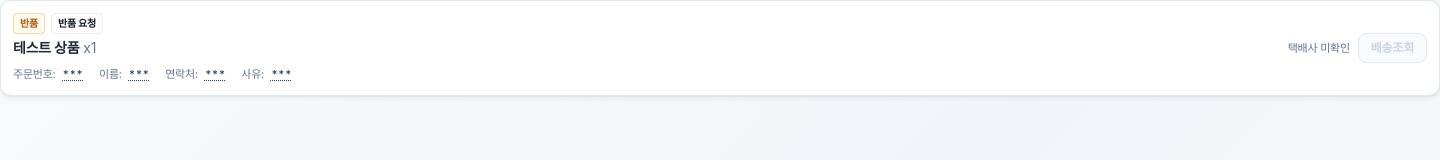
it: ClaimItemCard 개인정보 가림 › 누르면 연락처는 뒷 4자리, 이름·주문번호·사유는 전체가 보이고 다시 누르면 가린다
Click the button named "연락처 보기".
click(215, 74)  # box 201,66 -> 229,82
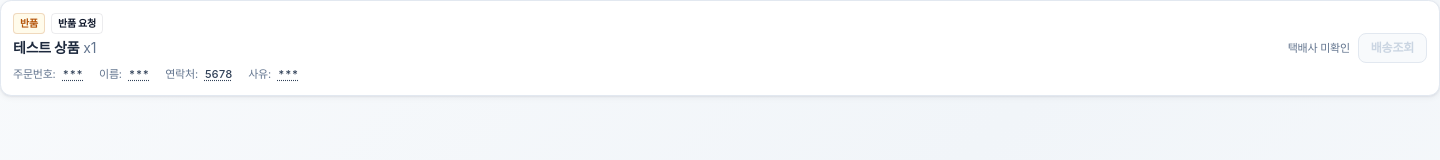
Check: the button named "연락처 보기" reads "5678"
Click the button named "연락처 보기".
click(218, 74)  # box 201,66 -> 236,82
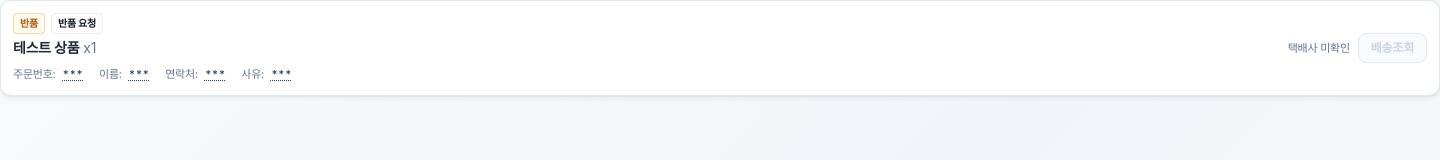
Check: the button named "연락처 보기" reads "***", box 201,66 -> 229,82
Click the button named "이름 보기".
click(139, 74)  # box 125,66 -> 153,82
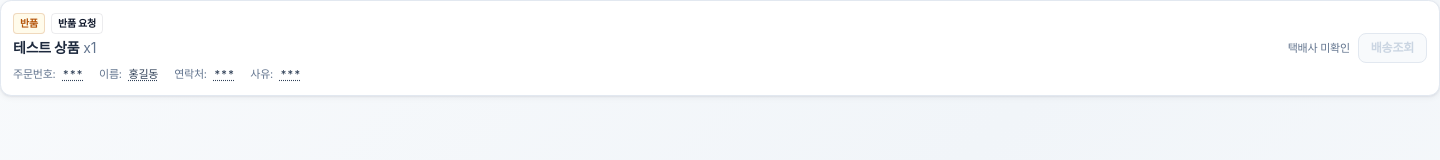
Check: the button named "이름 보기" reads "홍길동", box 125,66 -> 162,82
Click the button named "주문번호 보기".
click(73, 74)  # box 58,66 -> 87,82
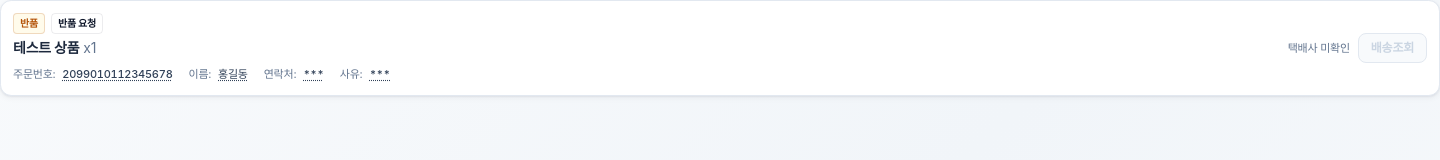
Check: the button named "주문번호 보기" reads "2099010112345678", box 58,66 -> 176,82
Click the button named "사유 보기".
click(380, 74)  # box 365,66 -> 394,82
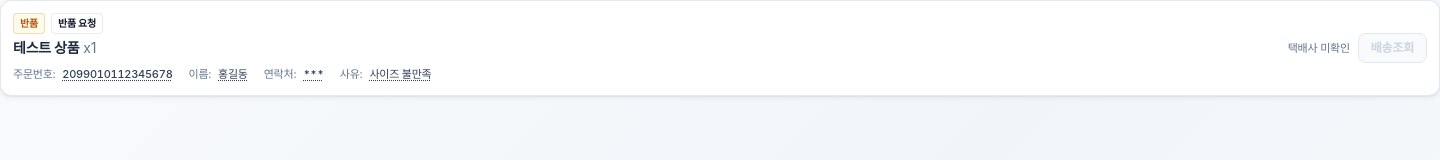
Check: the button named "사유 보기" reads "사이즈 불만족", box 365,66 -> 435,82
